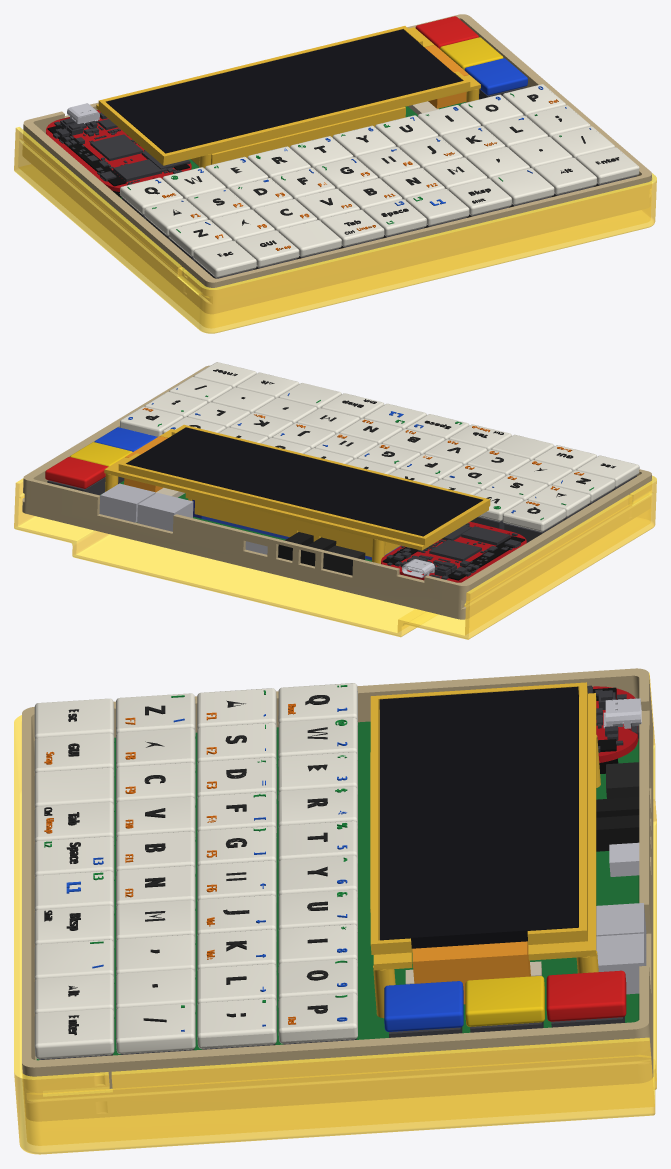
File: cradle_sand.glb
3 views of the same model, one above another, from view 1: azimuth 30°, elevation 25°; view 2: azimuth 150°, elevation 25°; view 3: azimuth 270°, elevation 25° (orthographic). The views are drawn at different scales.
Parts seen in each view (by area): view 1: Internals, Lid, Tray; view 2: Internals, Lid, Tray; view 3: Internals, Lid, Tray.
Part boxes in pixels (x1,y1,x2,y2): Internals: (46,16,639,278); Lid: (14,127,656,333); Tray: (23,14,651,313); Internals: (45,362,639,582); Lid: (14,475,656,639); Tray: (22,365,651,619); Internals: (34,682,646,1060); Lid: (14,672,656,1154); Tray: (22,668,653,1120).
Bounding box in the file's own units: 0.1818 × 0.0365 × 0.1342.
